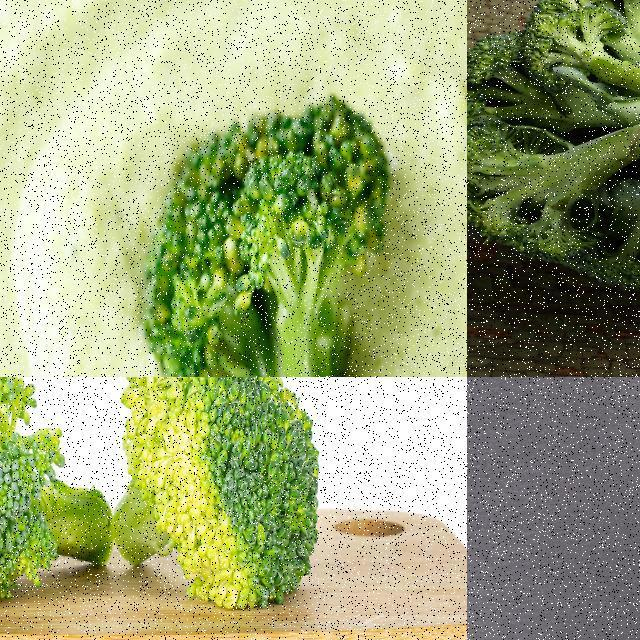broccoli: (138, 95, 398, 376), (111, 377, 323, 626), (467, 0, 639, 303), (0, 377, 116, 604)
